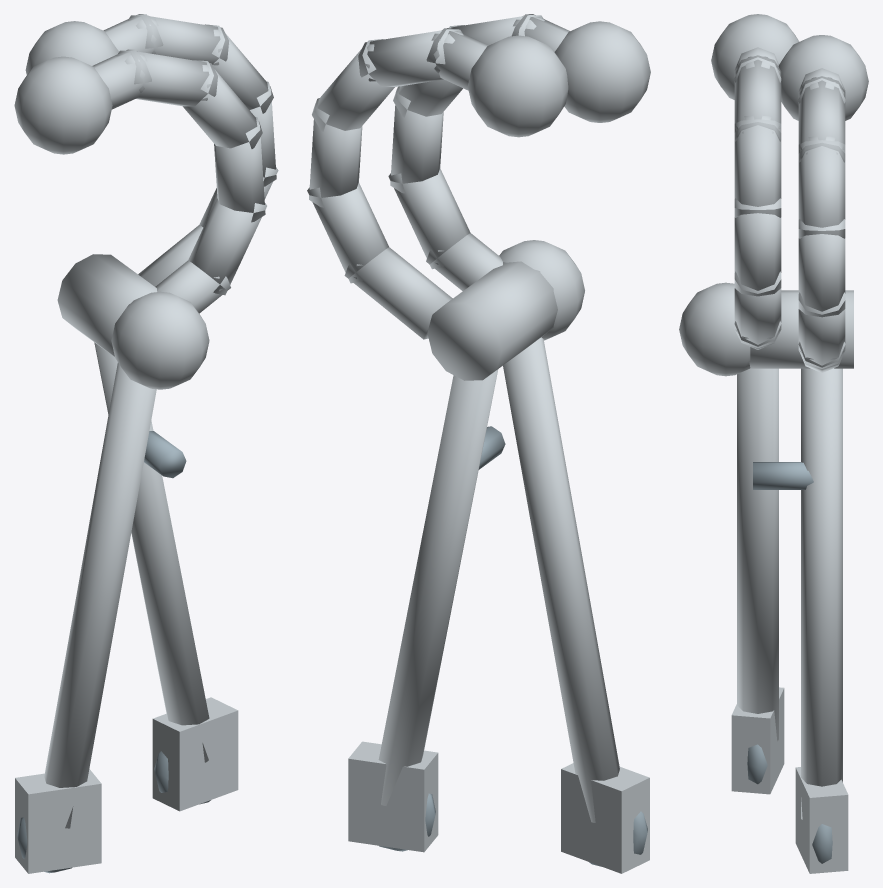
File: wrong-nose-ring.glb
3 renders of one model, left to right at view 1: azimuth 30°, elevation 25°; view 2: azimuth 150°, elevation 25°; view 3: azimuth 270°, elevation 25°, orthographic. The views are drawn at different scales.
Parts seen in each view (by area): view 1: wrong-nose-ring; view 2: wrong-nose-ring; view 3: wrong-nose-ring.
Part boxes in pixels (x1,y1,x2,y2): wrong-nose-ring: (14,14,278,873); wrong-nose-ring: (307,14,650,873); wrong-nose-ring: (679,14,868,873).
Size of the model in its own units: 0.13 by 0.3454 by 0.077.
